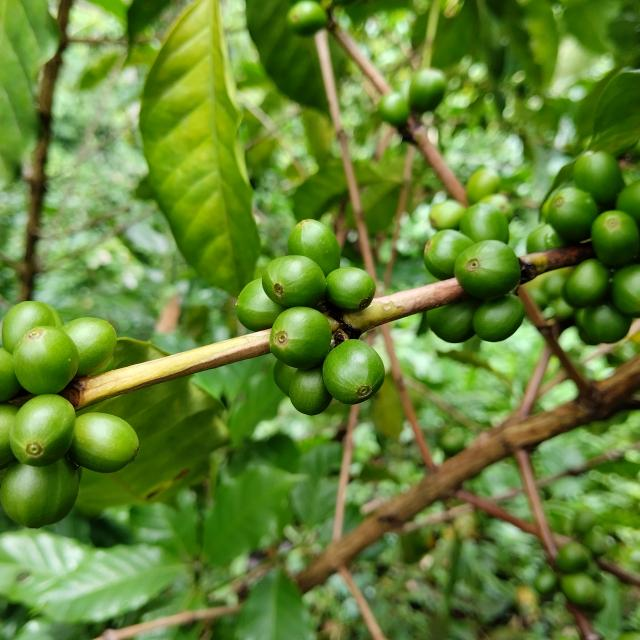green: (0, 457, 78, 529), (8, 395, 75, 467), (11, 326, 78, 396), (68, 413, 138, 474), (323, 339, 385, 405), (455, 240, 521, 300), (269, 307, 332, 369), (262, 255, 326, 308), (59, 318, 116, 376), (288, 219, 341, 275), (1, 301, 55, 354), (546, 187, 599, 241), (574, 151, 626, 205), (236, 278, 287, 332), (592, 210, 640, 267), (424, 229, 476, 280), (427, 297, 483, 343), (473, 294, 526, 342), (325, 267, 376, 312), (289, 366, 332, 416), (460, 202, 510, 243), (0, 348, 20, 402), (273, 360, 298, 397), (42, 303, 63, 328)
